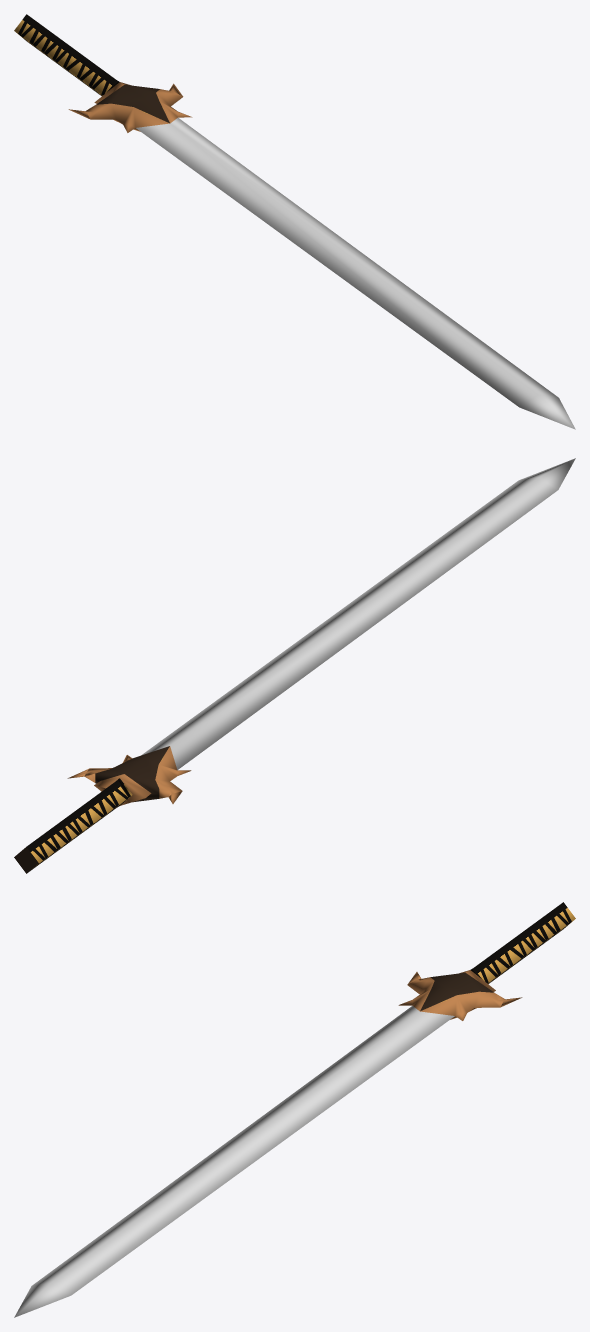
Rendered from W_Right_SinSword.FBX.
3 renders of one model, top to bottom at view 1: azimuth 30°, elevation 25°; view 2: azimuth 150°, elevation 25°; view 3: azimuth 330°, elevation 25°, orthographic.
Parts seen in each view (by area): view 1: Avata-D9-body wuqi; view 2: Avata-D9-body wuqi; view 3: Avata-D9-body wuqi.
Part boxes in pixels (left/top/right/bottom): Avata-D9-body wuqi: left=14, top=14, right=575, bottom=429; Avata-D9-body wuqi: left=14, top=458, right=575, bottom=873; Avata-D9-body wuqi: left=14, top=902, right=575, bottom=1317.
Size of the model in its own units: 0.1387 by 0.0378 by 1.25.
